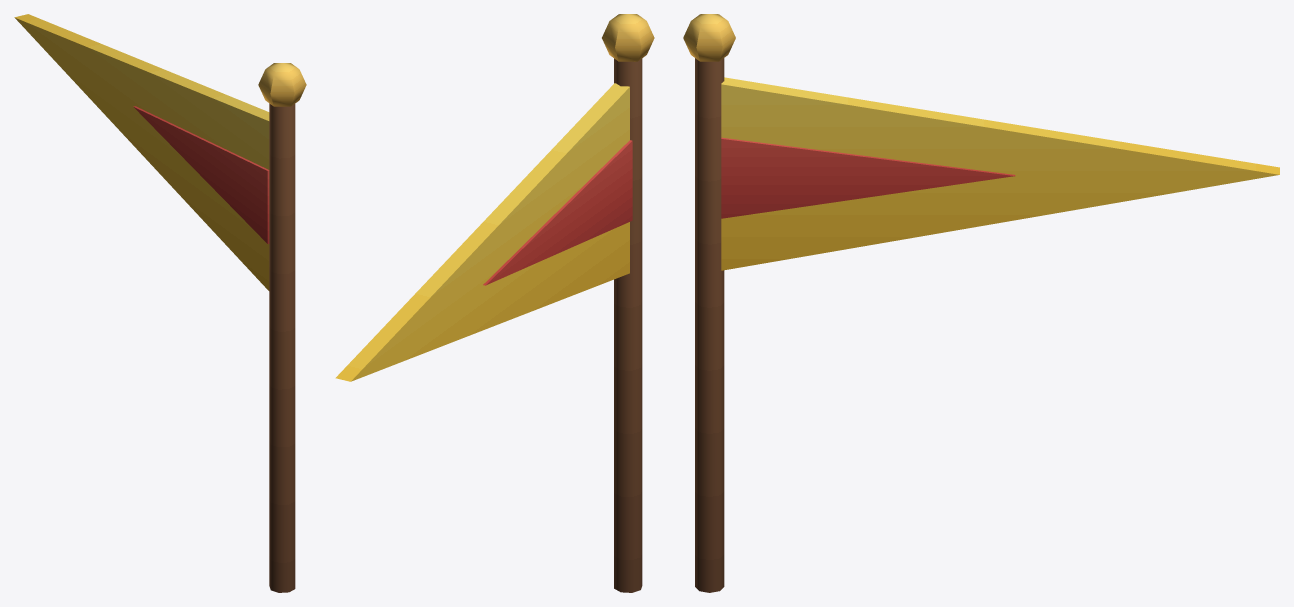
Rendered from pennant.glb.
3 renders of one model, left to right at view 1: azimuth 30°, elevation 25°; view 2: azimuth 150°, elevation 25°; view 3: azimuth 270°, elevation 25°, orthographic. The views are drawn at different scales.
Visible parts, largest first — view 1: pennant; view 2: pennant; view 3: pennant.
Boxes of the visible parts, left/top/right/bottom form: pennant: left=14, top=14, right=306, bottom=592; pennant: left=335, top=14, right=654, bottom=592; pennant: left=683, top=14, right=1279, bottom=592.
Size of the model in its own units: 0.0779 by 1.07 by 1.02.
1 material, 1 textured.
